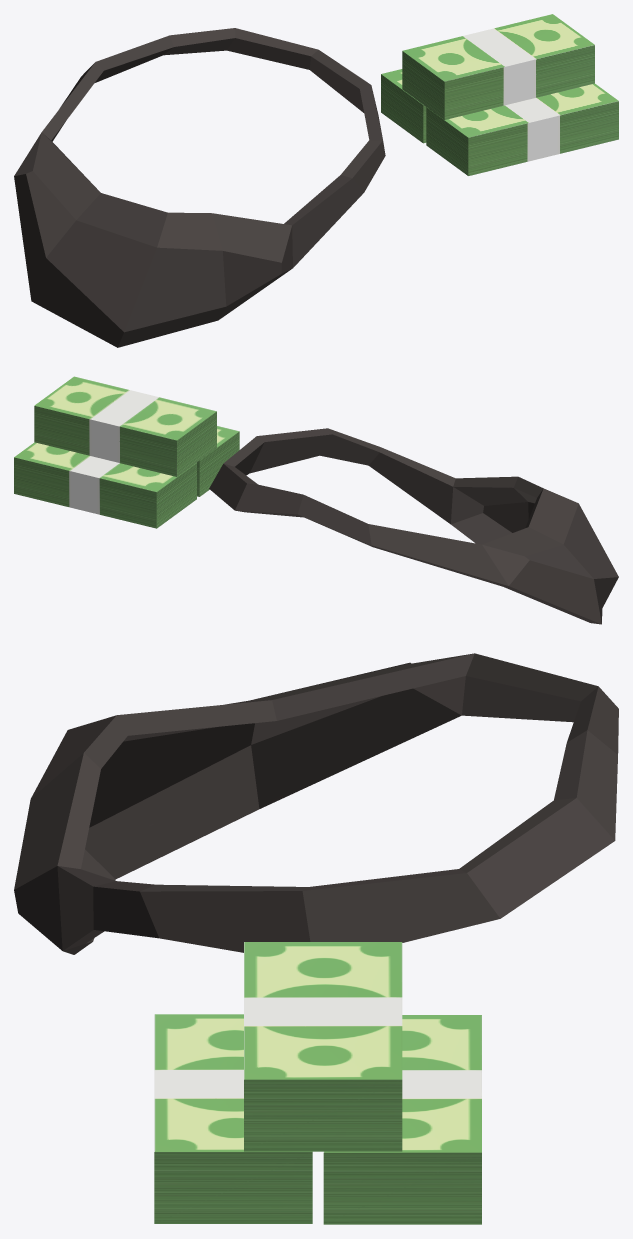
The model's file is CollectableMoney.fbx.
3 renders of one model, top to bottom at view 1: azimuth 30°, elevation 25°; view 2: azimuth 150°, elevation 25°; view 3: azimuth 270°, elevation 25°, orthographic. The views are drawn at different scales.
Visible parts, largest first — view 1: Money_Belt, Money, Money.001, Money.002; view 2: Money_Belt, Money, Money.002, Money.001; view 3: Money_Belt, Money, Money.001, Money.002.
Part boxes in pixels (x1,y1,x2,y2): Money_Belt: [14, 28, 385, 347]; Money: [402, 14, 594, 119]; Money.001: [426, 83, 618, 175]; Money.002: [381, 69, 426, 143]; Money_Belt: [209, 428, 618, 624]; Money: [34, 376, 216, 476]; Money.002: [14, 442, 196, 528]; Money.001: [197, 426, 239, 496]; Money_Belt: [14, 653, 618, 954]; Money: [244, 942, 402, 1151]; Money.001: [154, 1014, 312, 1223]; Money.002: [323, 1015, 481, 1224].
Size of the model in its own units: 57.25 by 16.76 by 28.59.
